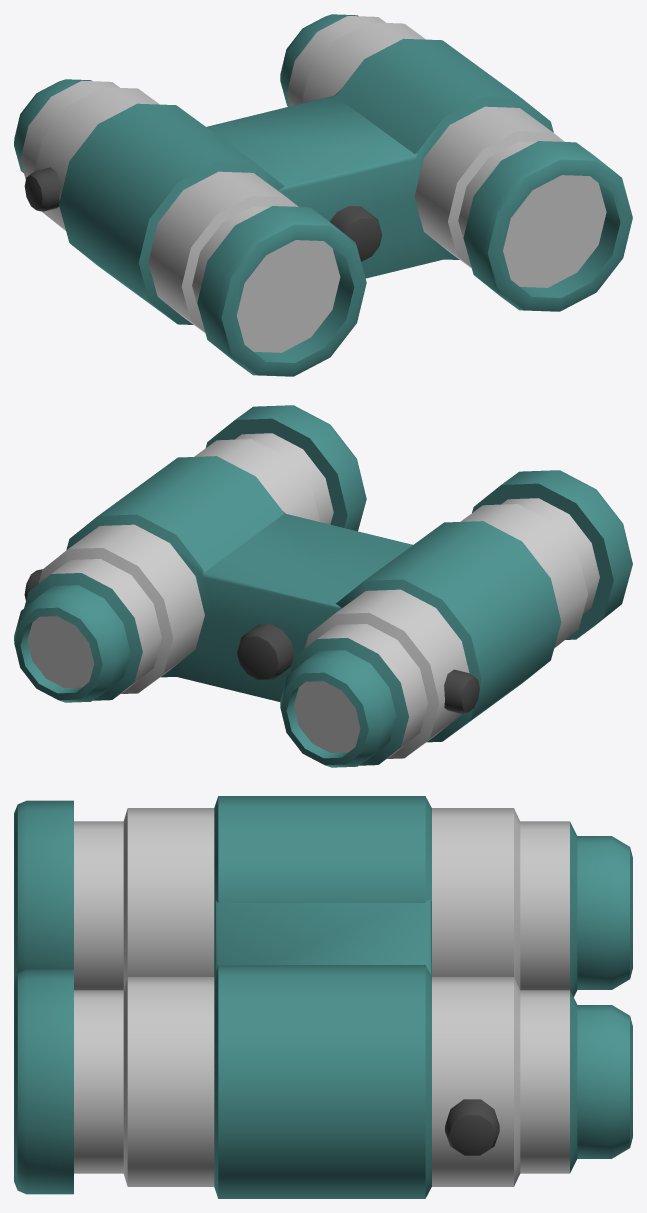
Rendered from Binoculars_2.fbx.
The picture shows the model from 3 angles, top to bottom: view 1: azimuth 30°, elevation 25°; view 2: azimuth 150°, elevation 25°; view 3: azimuth 270°, elevation 25°; orthographic projection. The views are drawn at different scales.
Parts seen in each view (by area): view 1: Binoculars_2; view 2: Binoculars_2; view 3: Binoculars_2.
Part boxes in pixels (x1,y1,x2,y2): Binoculars_2: (14,14,632,376); Binoculars_2: (14,405,632,767); Binoculars_2: (14,796,632,1198).
Bounding box in the file's own units: 0.2659 × 0.0942 × 0.2482.
